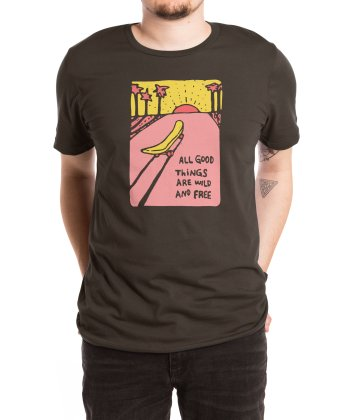design: (126, 77, 225, 209)
